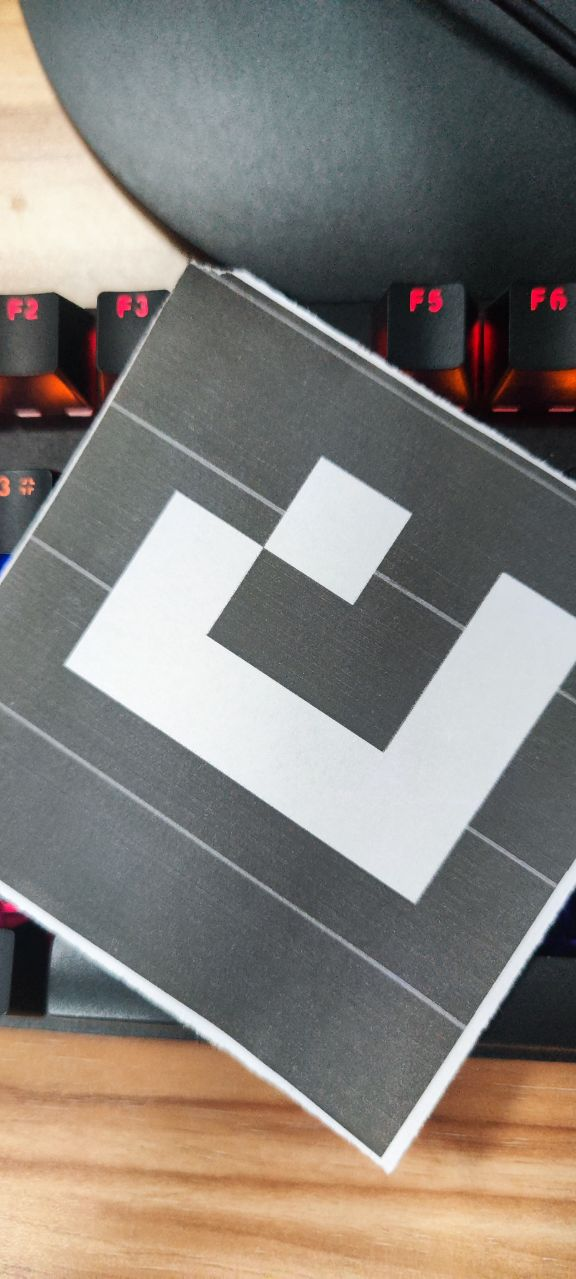mark1: (56, 443, 576, 912)
